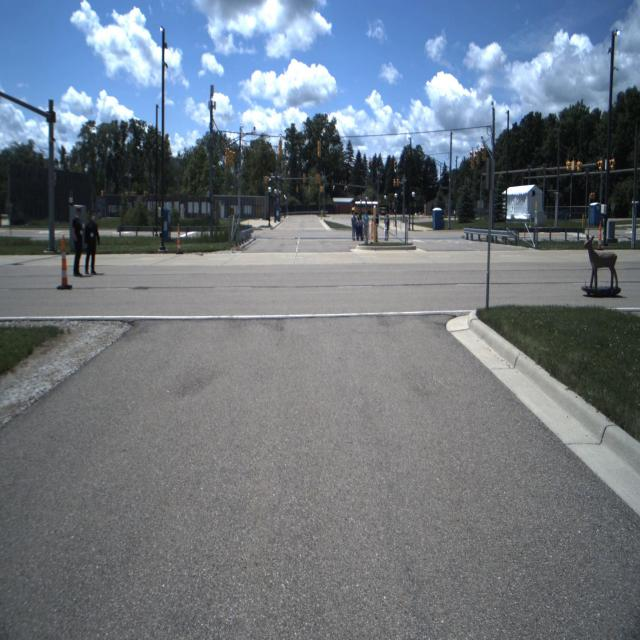Deer: (584, 234, 618, 287)
